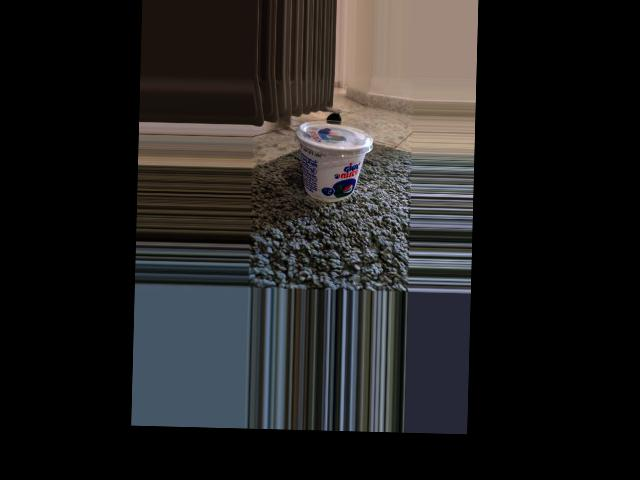cotage: (298, 118, 369, 205)
